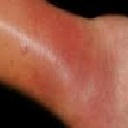Cellulitis: (21, 22, 91, 103)
